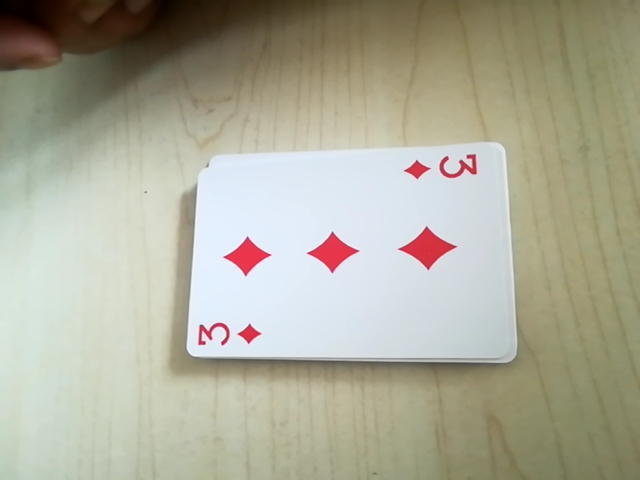fk 3: (396, 145, 485, 191), (191, 314, 266, 357)
